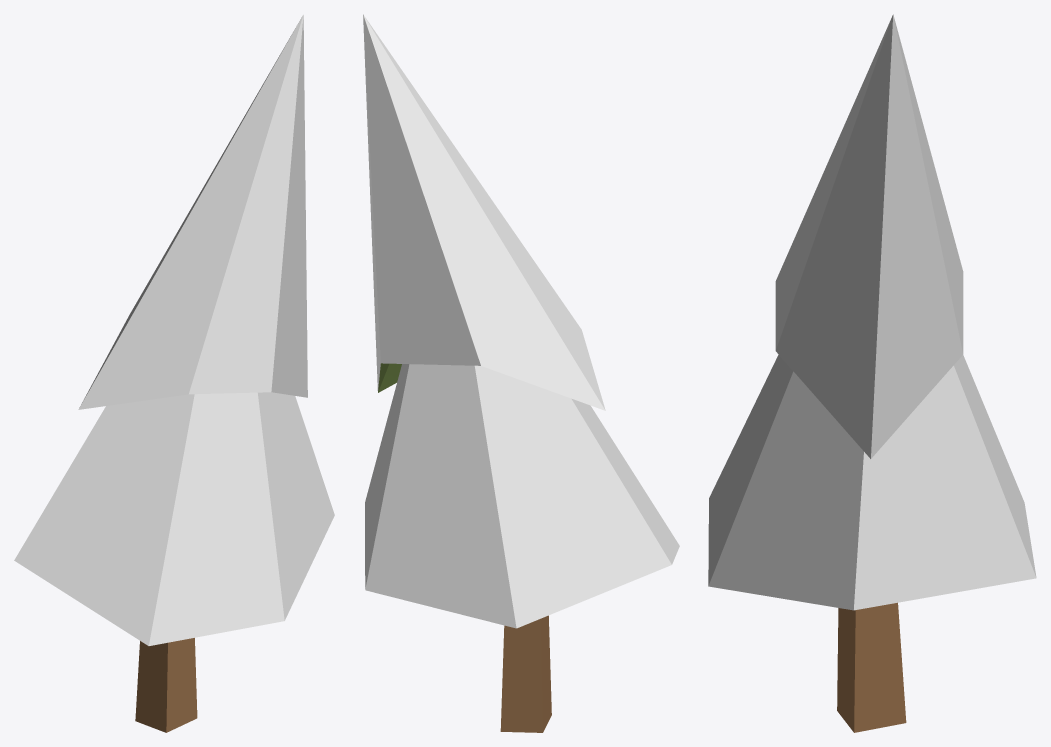
Rendered from Pine_Tree_s_Snow_10.fbx.
The picture shows the model from 3 angles, left to right: view 1: azimuth 30°, elevation 25°; view 2: azimuth 150°, elevation 25°; view 3: azimuth 270°, elevation 25°; orthographic projection. The views are drawn at different scales.
Parts seen in each view (by area): view 1: Pine_Tree_s_Snow_10; view 2: Pine_Tree_s_Snow_10; view 3: Pine_Tree_s_Snow_10.
Part boxes in pixels (x1,y1,x2,y2): Pine_Tree_s_Snow_10: (14, 14, 334, 732); Pine_Tree_s_Snow_10: (363, 14, 679, 732); Pine_Tree_s_Snow_10: (708, 14, 1036, 732).
Size of the model in its own units: 73.98 by 151 by 56.8.
